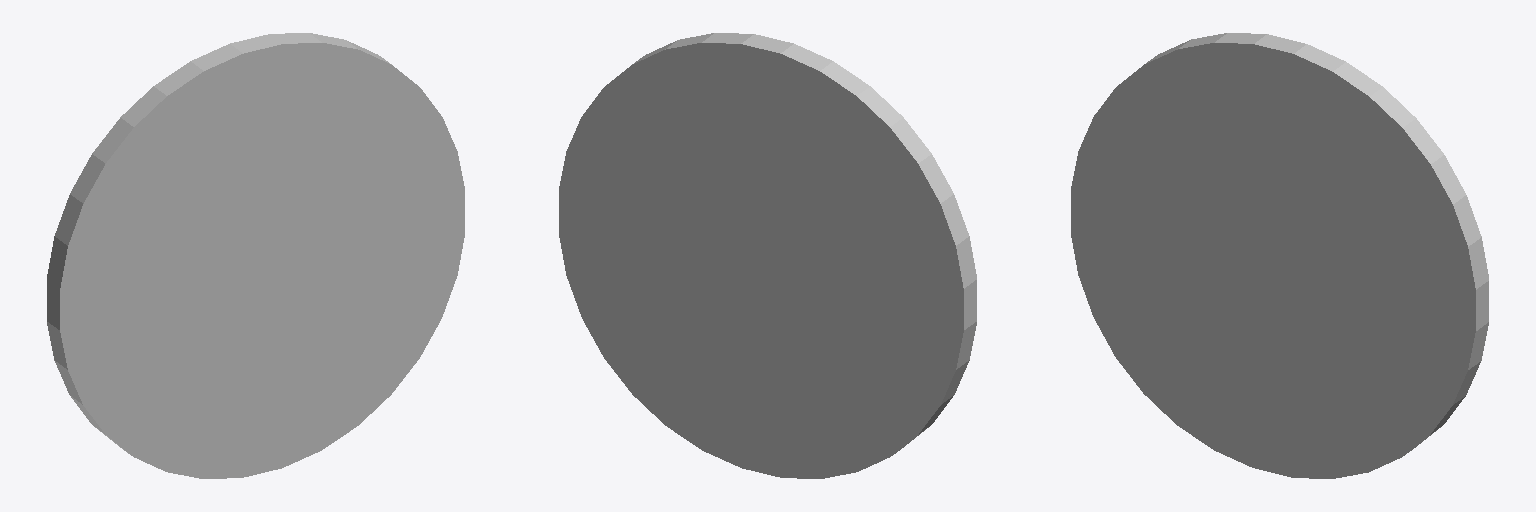
Rendered from fire.obj.
The picture shows the model from 3 angles: view 1: azimuth 30°, elevation 25°; view 2: azimuth 150°, elevation 25°; view 3: azimuth 330°, elevation 25°; orthographic projection.
Parts seen in each view (by area): view 1: Cilindro; view 2: Cilindro; view 3: Cilindro.
Boxes of the visible parts, x1,y1,x2,y2 form: Cilindro: [47, 33, 464, 478]; Cilindro: [559, 33, 976, 478]; Cilindro: [1071, 33, 1488, 478].
Size of the model in its own units: 1.99 by 1.99 by 0.1159.